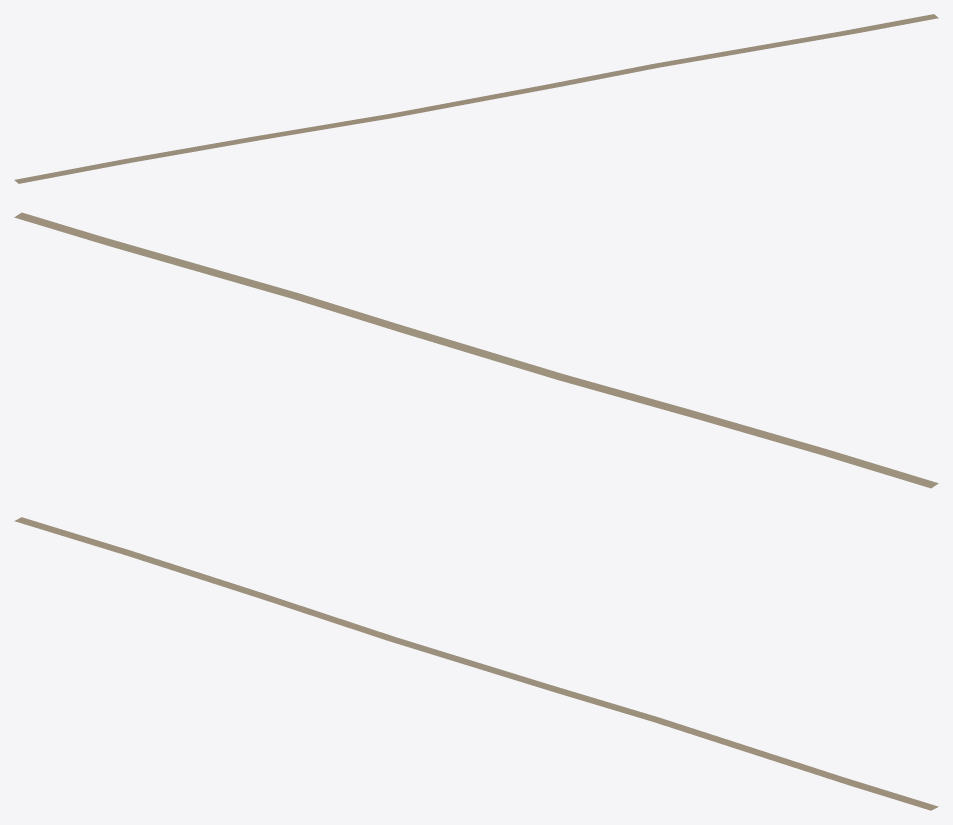
The model's file is farm_-8_3_track.glb.
3 renders of one model, top to bottom at view 1: azimuth 30°, elevation 25°; view 2: azimuth 150°, elevation 25°; view 3: azimuth 330°, elevation 25°, orthographic. The views are drawn at different scales.
Parts seen in each view (by area): view 1: geometry_0; view 2: geometry_0; view 3: geometry_0.
Part boxes in pixels (left/top/right/bottom): geometry_0: left=14, top=14, right=938, bottom=183; geometry_0: left=14, top=212, right=938, bottom=488; geometry_0: left=14, top=517, right=938, bottom=810.
Bounding box in the file's own units: 278 × 2.69 × 31.83.
